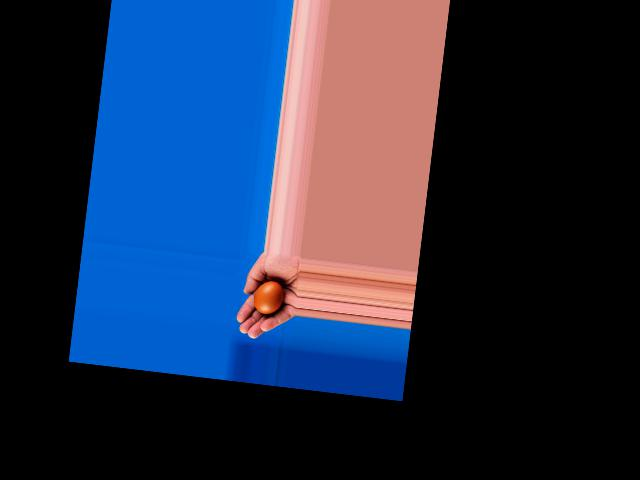egg: (252, 279, 284, 316)
